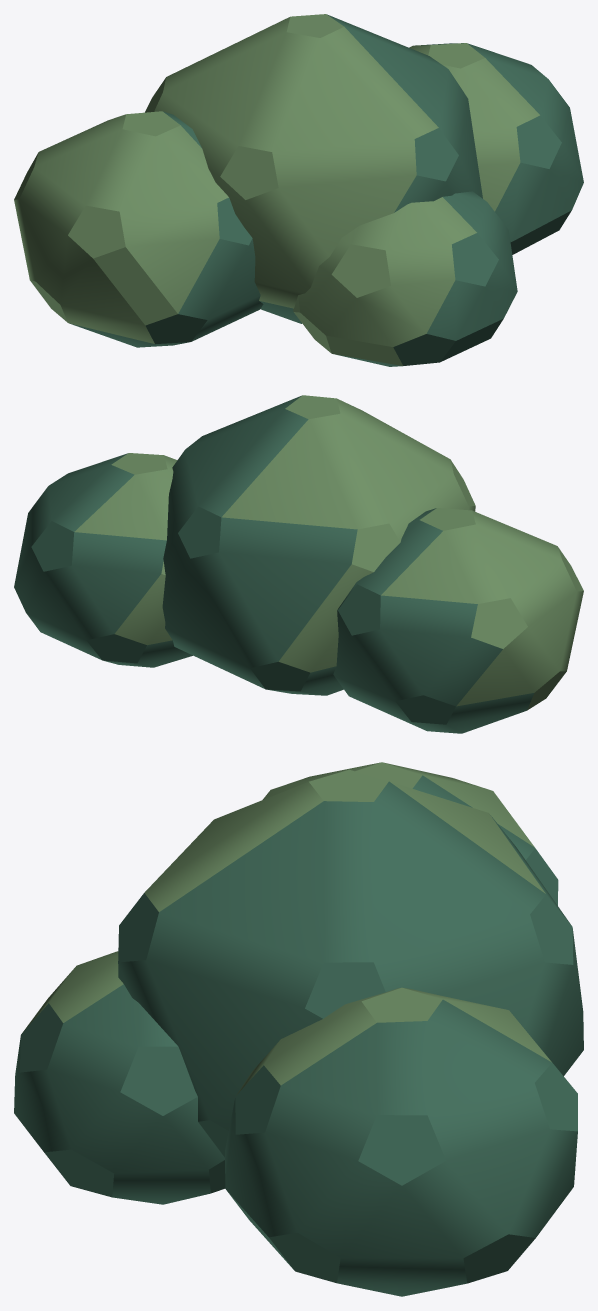
Rendered from Bush_A.fbx.
3 views of the same model, one above another, from view 1: azimuth 30°, elevation 25°; view 2: azimuth 150°, elevation 25°; view 3: azimuth 270°, elevation 25° (orthographic). The views are drawn at different scales.
Visible parts, largest first — view 1: Bush_A; view 2: Bush_A; view 3: Bush_A.
Boxes of the visible parts, bbox=[...] form: Bush_A: bbox=[14, 14, 583, 366]; Bush_A: bbox=[14, 395, 583, 733]; Bush_A: bbox=[14, 762, 583, 1296].
Size of the model in its own units: 1.27 by 0.6539 by 0.8607.
